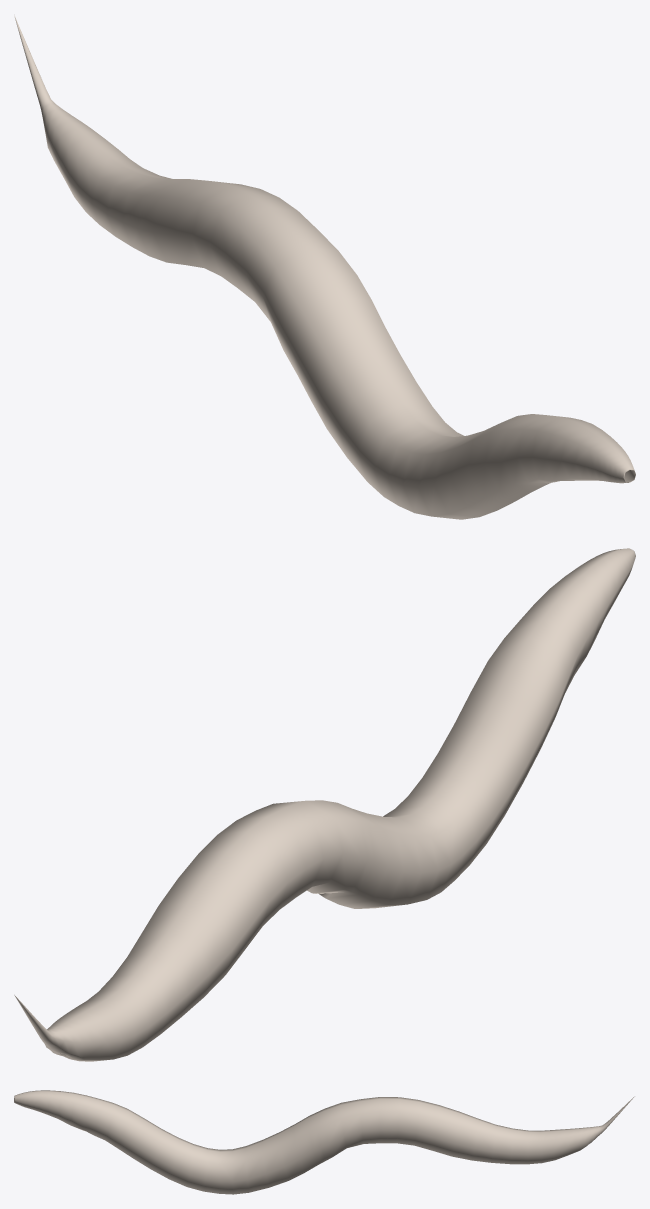
The model's file is cuticleNotBent.dae.
The picture shows the model from 3 angles, top to bottom: view 1: azimuth 30°, elevation 25°; view 2: azimuth 150°, elevation 25°; view 3: azimuth 270°, elevation 25°; orthographic projection. The views are drawn at different scales.
Visible parts, largest first — view 1: Cuticle; view 2: Cuticle; view 3: Cuticle.
Boxes of the visible parts, box(x1,y1,x2,y2) form: Cuticle: box(14, 15, 635, 519); Cuticle: box(14, 548, 635, 1061); Cuticle: box(14, 1090, 634, 1194).
Bounding box in the file's own units: 0.6718 × 8.16 × 1.45.
